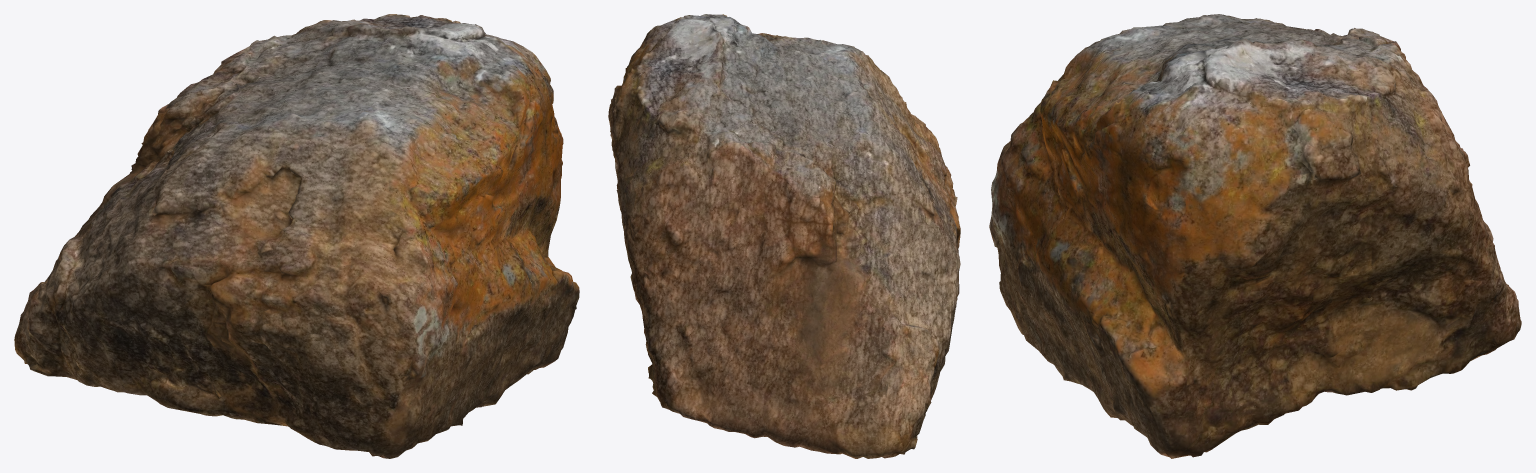
Rendered from ph-namaqualand-boulder-04.glb.
The picture shows the model from 3 angles, left to right: view 1: azimuth 30°, elevation 25°; view 2: azimuth 150°, elevation 25°; view 3: azimuth 270°, elevation 25°; orthographic projection. The views are drawn at different scales.
Parts seen in each view (by area): view 1: boulder_04; view 2: boulder_04; view 3: boulder_04.
Part boxes in pixels (x1,y1,x2,y2): boulder_04: [14, 14, 579, 458]; boulder_04: [608, 14, 960, 458]; boulder_04: [989, 14, 1521, 458].
Bounding box in the file's own units: 2.52 × 1.9 × 2.5.
1 material, 1 textured.
